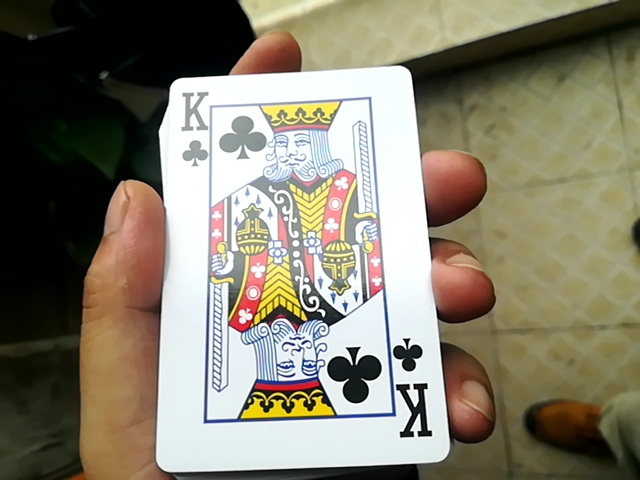mh k: (144, 57, 444, 467)
